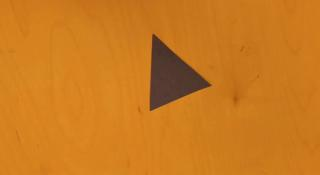Triangle: (150, 34, 212, 111)
